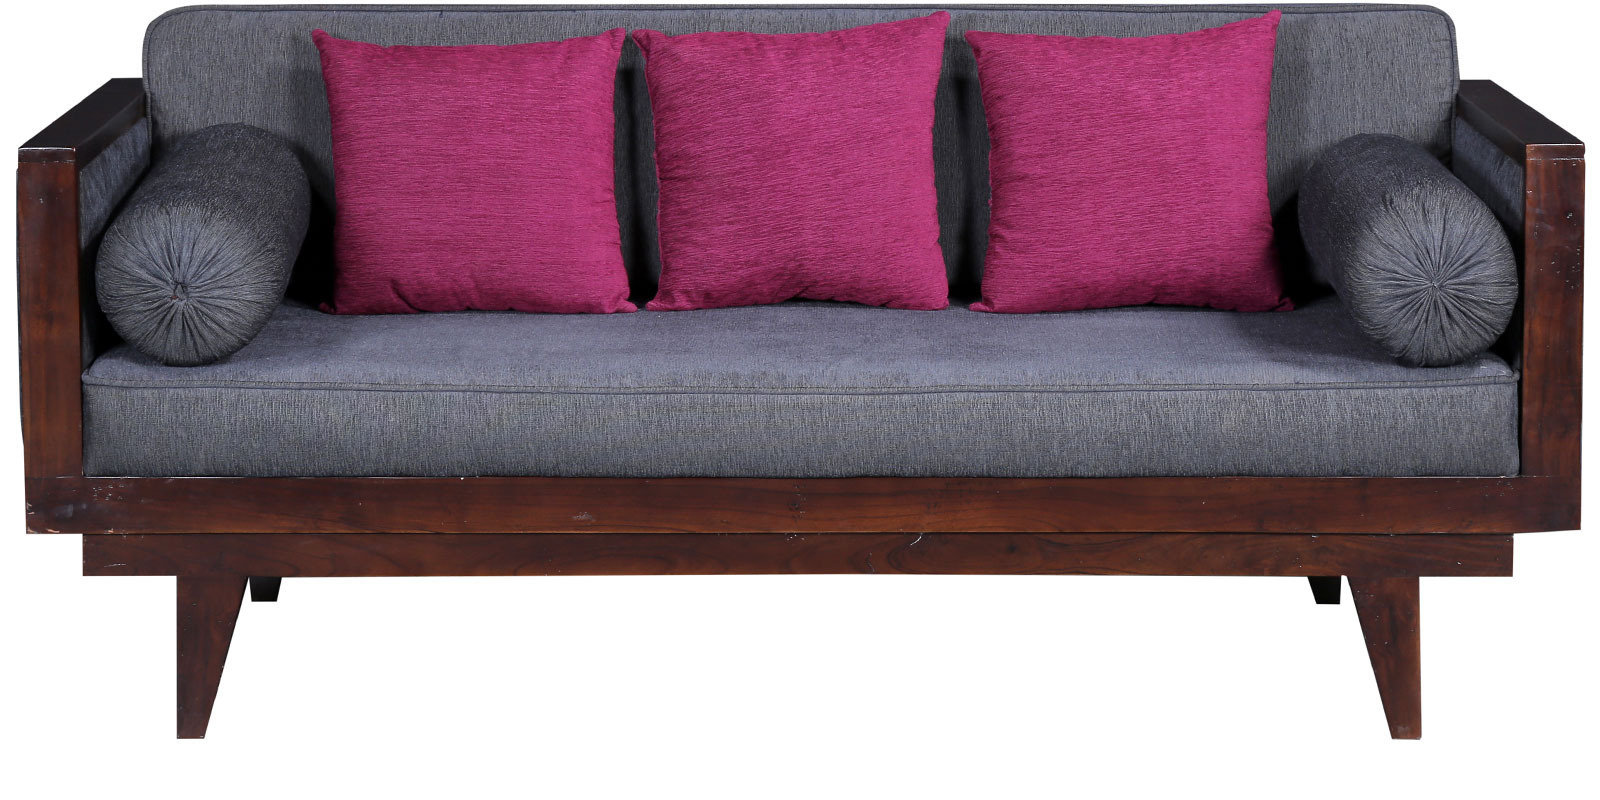Dillon Three Seater Sofa in Passion Mahogany Finish by Woodsworth: (7, 3, 1589, 758)
